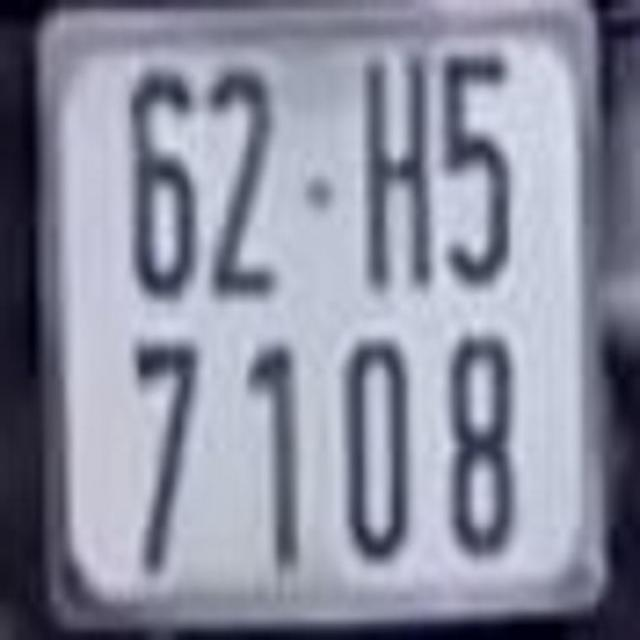0: (336, 330, 413, 567)
1: (249, 344, 307, 571)
2: (205, 59, 282, 303)
5: (444, 56, 513, 280)
6: (129, 66, 197, 297)
7: (130, 340, 209, 572)
8: (453, 331, 513, 560)
H: (363, 63, 436, 282)
